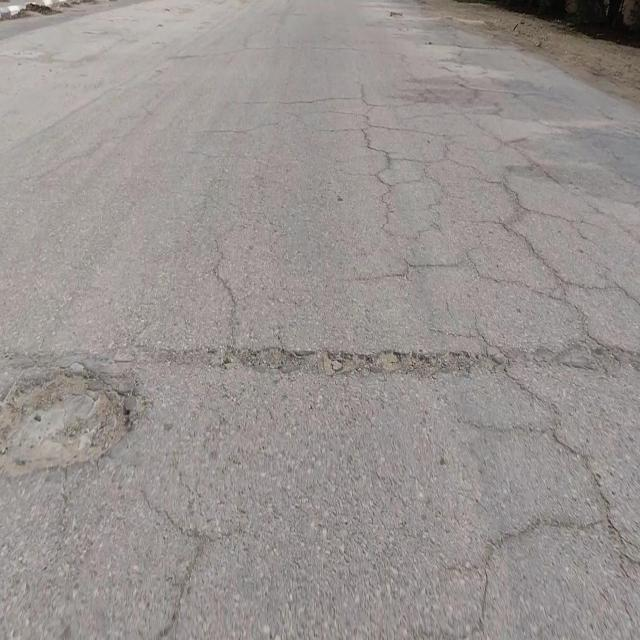Potholes: (1, 364, 133, 484)
